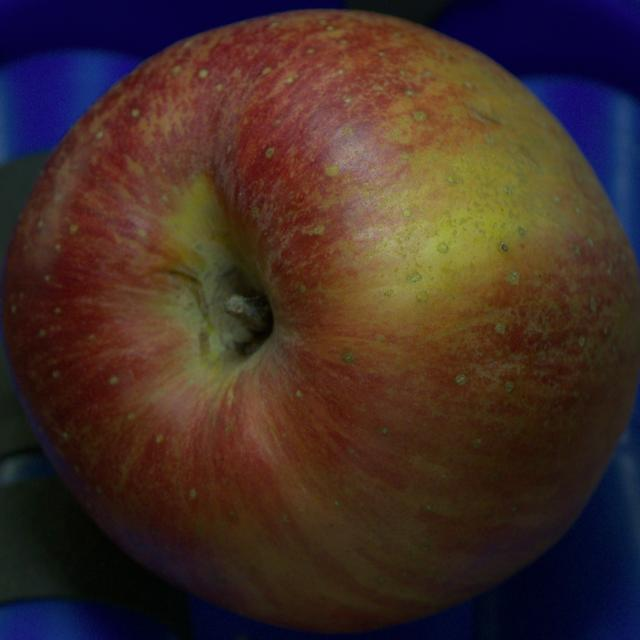apple: (0, 10, 639, 631)
scratch: (164, 268, 215, 360), (469, 109, 501, 123)
